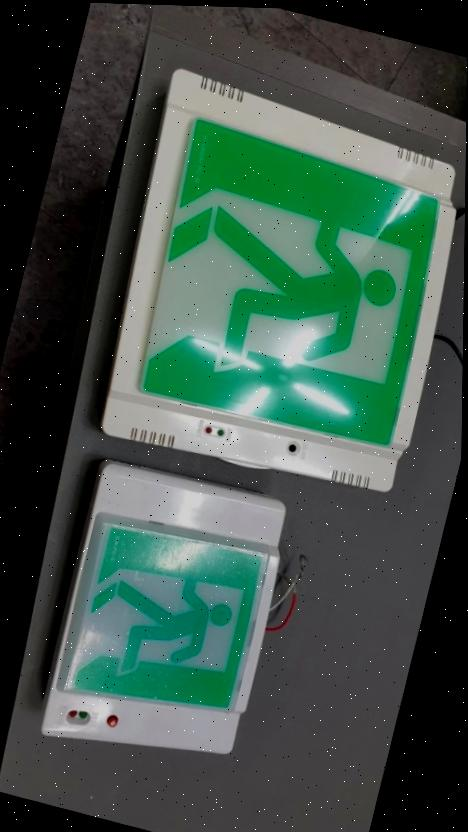emergency_exit: (99, 67, 459, 493), (40, 458, 286, 756)
